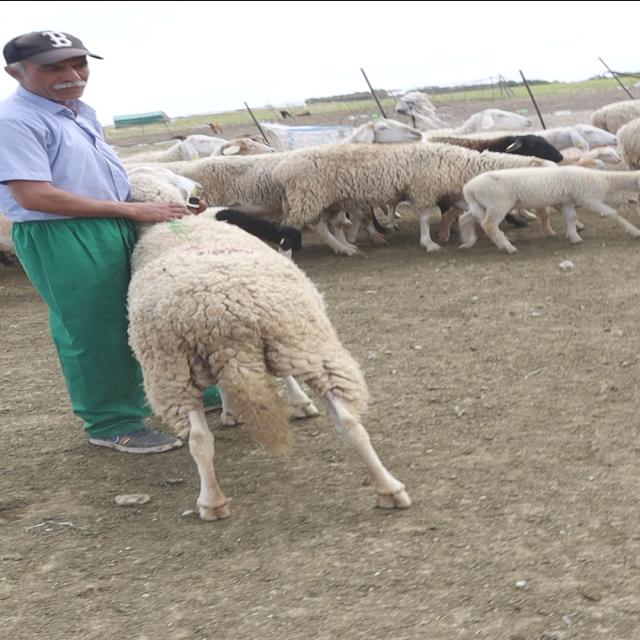Score_3: (127, 207, 411, 519)
